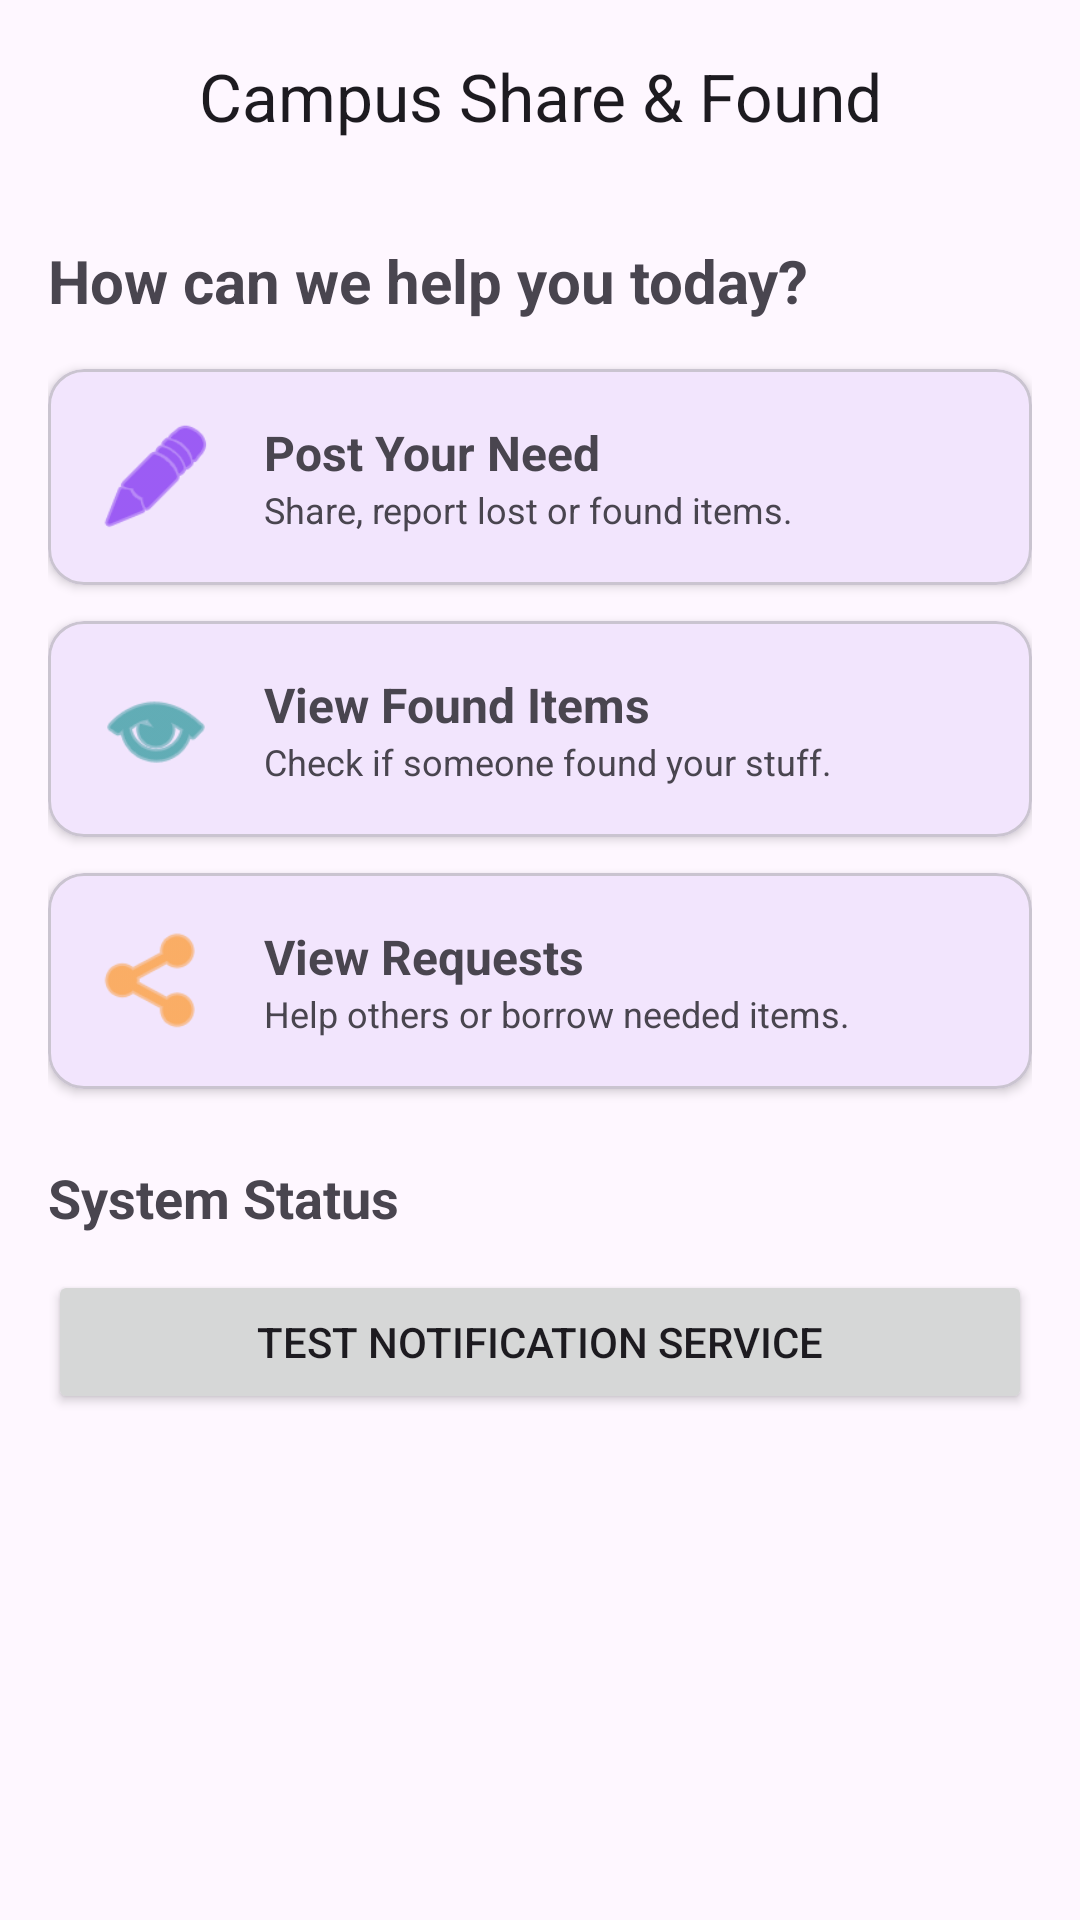

Locate icon controls on the screen. Image size 1080 x 1920, boxes as (x1, y1, x2, y2).
edit: (105, 425, 206, 527)
share: (105, 933, 195, 1027)
